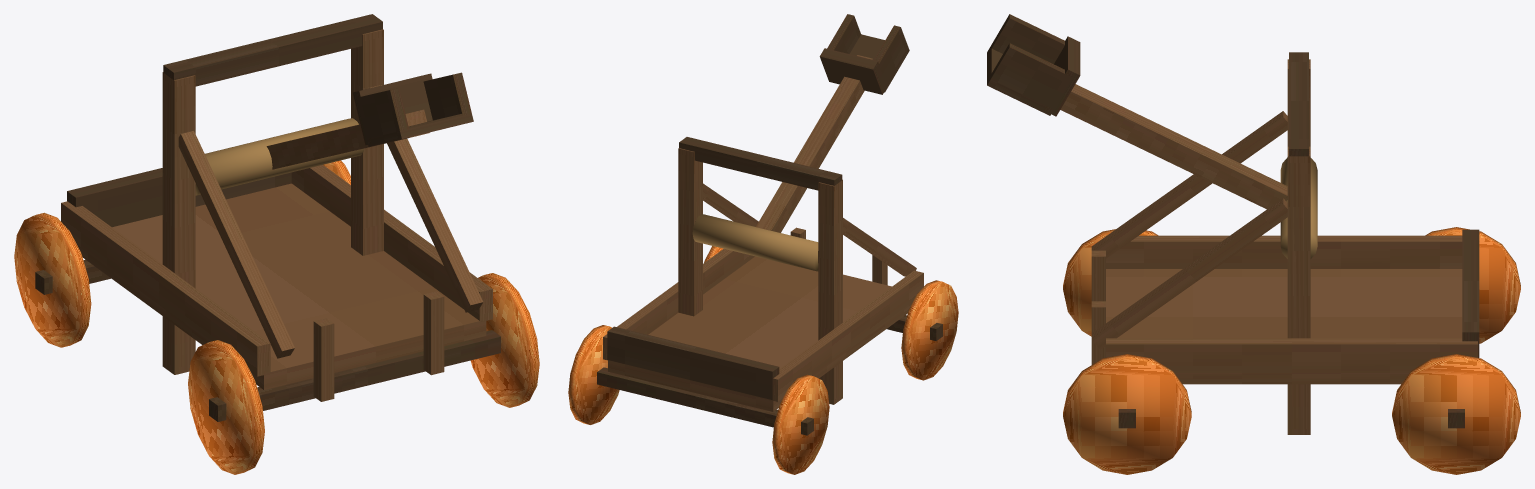
File: ae_catapult_small_bronze_lod2.glb
The picture shows the model from 3 angles, left to right: view 1: azimuth 30°, elevation 25°; view 2: azimuth 150°, elevation 25°; view 3: azimuth 270°, elevation 25°; orthographic projection. The views are drawn at different scales.
Visible parts, largest first — view 1: bed, sideL, post_L, wheel_FL_tyre, wheel_RL_tyre, cross_top, wheel_RR_tyre, sideR, post_R, brace_-0.72, axle_rear, front_stop (+10 smaller); view 2: bed, front_stop, sideL, post_L, wheel_FL_tyre, wheel_RL_tyre, arm_beam, post_R, skein, cross_top, axle_front, wheel_FR_tyre (+7 smaller); view 3: bed, wheel_RR_tyre, wheel_FR_tyre, sideR, sideL, arm_beam, post_R, brace_0.72, brace_-0.72, wheel_FL_tyre, spoon_R, wheel_RL_tyre (+8 smaller).
Part boxes in pixels (<box>): bed: <box>77,183,486,389</box>; sideL: <box>61,201,270,376</box>; post_L: <box>162,72,195,374</box>; wheel_FL_tyre: <box>14,212,91,347</box>; wheel_RL_tyre: <box>188,340,264,474</box>; cross_top: <box>163,14,382,86</box>; wheel_RR_tyre: <box>470,273,539,407</box>; sideR: <box>291,165,492,322</box>; post_R: <box>351,29,383,255</box>; brace_-0.72: <box>178,131,294,358</box>; axle_rear: <box>209,330,500,421</box>; front_stop: <box>67,168,291,227</box>; bed: <box>608,256,911,411</box>; front_stop: <box>607,326,779,399</box>; sideL: <box>771,270,923,401</box>; post_L: <box>818,179,842,404</box>; wheel_FL_tyre: <box>772,374,829,474</box>; wheel_RL_tyre: <box>901,280,958,380</box>; arm_beam: <box>756,55,873,232</box>; post_R: <box>678,148,702,316</box>; skein: <box>692,214,818,271</box>; cross_top: <box>679,137,842,190</box>; axle_front: <box>597,367,813,435</box>; wheel_FR_tyre: <box>568,325,619,424</box>; bed: <box>1106,269,1462,384</box>; wheel_RR_tyre: <box>1063,354,1191,474</box>; wheel_FR_tyre: <box>1392,354,1520,474</box>; sideR: <box>1106,338,1477,372</box>; sideL: <box>1106,235,1462,268</box>; arm_beam: <box>1060,84,1287,209</box>; post_R: <box>1287,146,1310,434</box>; brace_0.72: <box>1091,198,1287,349</box>; brace_-0.72: <box>1091,111,1287,258</box>; wheel_FL_tyre: <box>1425,227,1520,343</box>; spoon_R: <box>990,43,1072,109</box>; wheel_RL_tyre: <box>1063,229,1158,336</box>.
Bounding box in the file's own units: 2.3 × 2.92 × 3.73.
Materials: 3 (3 with a texture image).
